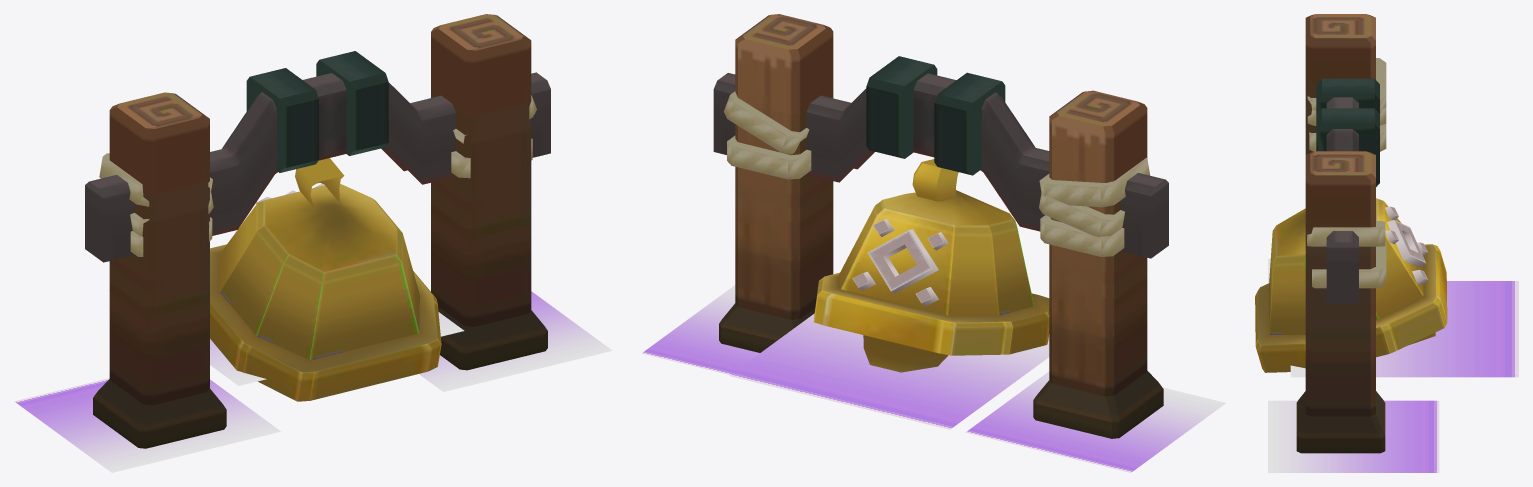
Rendered from [gimmick]bell_yellow.fbx.
The picture shows the model from 3 angles, left to right: view 1: azimuth 30°, elevation 25°; view 2: azimuth 150°, elevation 25°; view 3: azimuth 270°, elevation 25°; orthographic projection. The views are drawn at different scales.
Visible parts, largest first — view 1: [gimmick]bell_yellow, bell_yellow, shadow2, shadow1, shadow; view 2: [gimmick]bell_yellow, bell_yellow, shadow, shadow2, shadow1; view 3: [gimmick]bell_yellow, bell_yellow, shadow, shadow1.
Boxes of the visible parts, x1,y1,x2,y2 form: [gimmick]bell_yellow: (85,14,550,448); bell_yellow: (210,158,441,401); shadow2: (14,378,280,472); shadow1: (419,291,612,391); shadow: (108,290,464,385); [gimmick]bell_yellow: (713,14,1168,438); bell_yellow: (813,159,1049,372); shadow: (729,313,1049,429); shadow2: (965,371,1225,472); shadow1: (641,285,759,374); [gimmick]bell_yellow: (1296,14,1386,453); bell_yellow: (1255,198,1447,372); shadow: (1290,281,1518,377); shadow1: (1268,400,1439,472).
Bounding box in the file's own units: 2.66 × 1.59 × 1.39.
